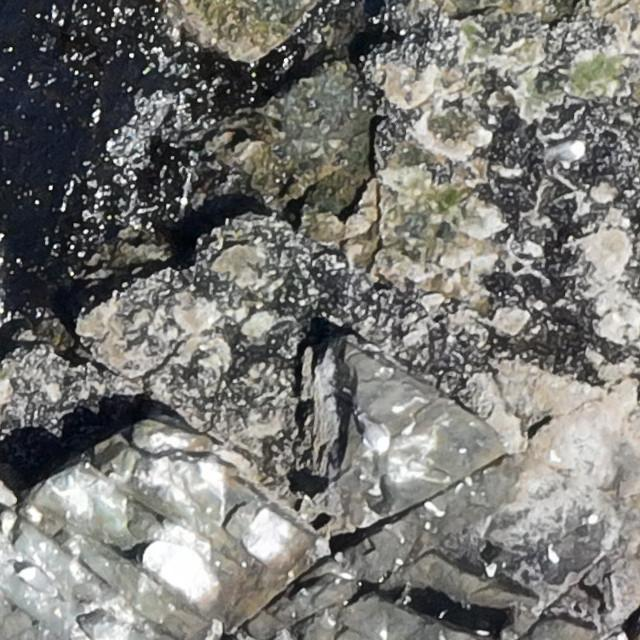umineko: (357, 406, 391, 454), (17, 568, 58, 600), (541, 142, 584, 164)
